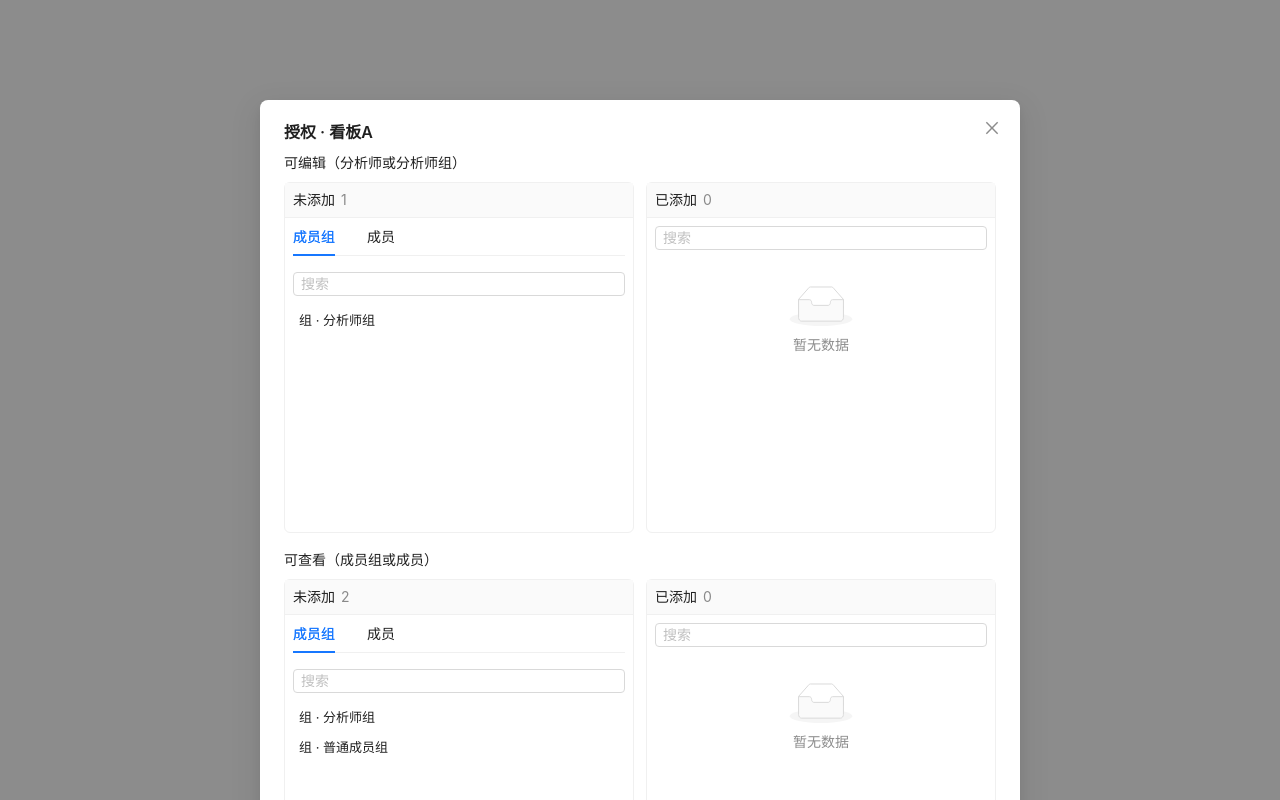
授权弹层双栏选择器（rbac-v6 增补） › 编辑栏只列分析师；查看栏列全部成员组与成员；两栏按标签页切换类别
The image size is (1280, 800).
Expected: the 1st text "组 · 分析师组" is shown, [299,310,375,330]
编辑栏 · 成员标签页：只有分析师个人
Click the 1st tab "成员" at (381, 237), box [367,226,395,248]
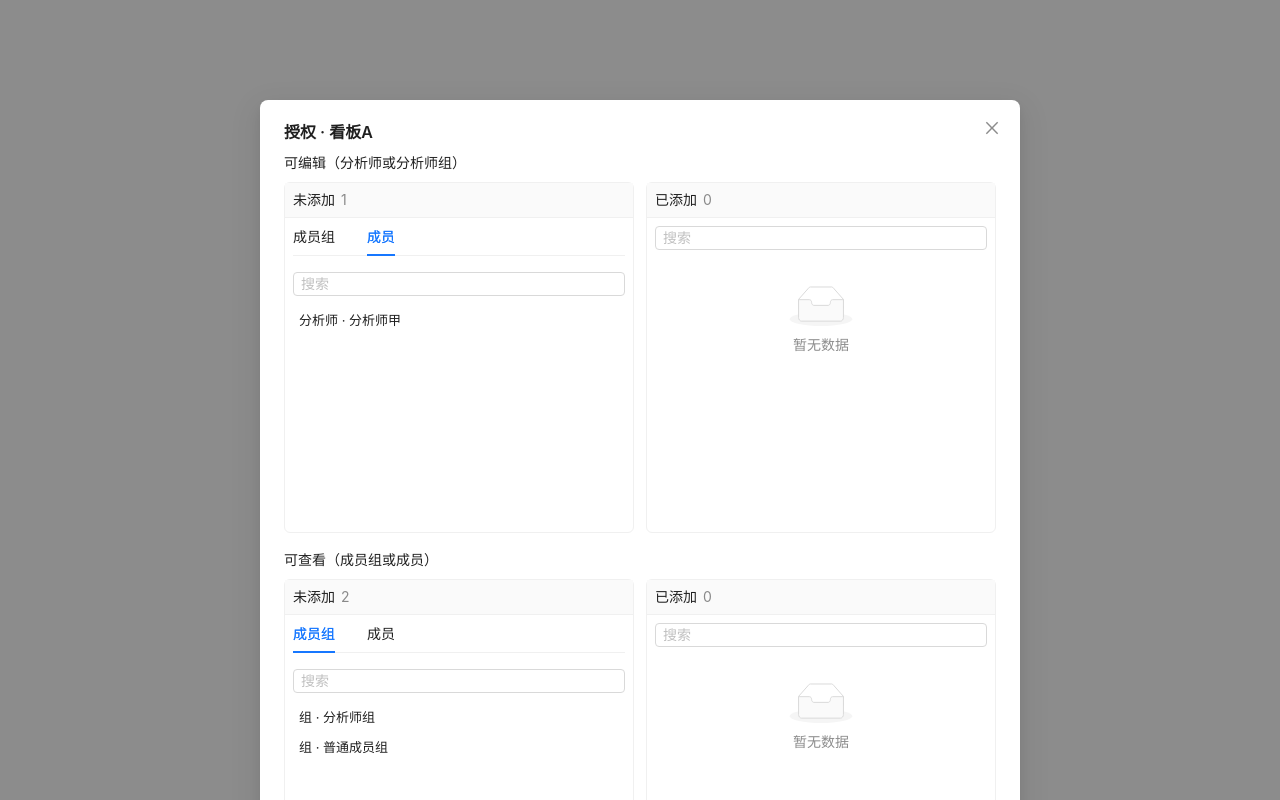
Expected: the text "成员 · 成员乙" is not shown
Expected: the text "分析师 · 分析师甲" is shown, [299,310,401,330]
Click the 2nd tab "成员" at (381, 634), box [367,623,395,645]
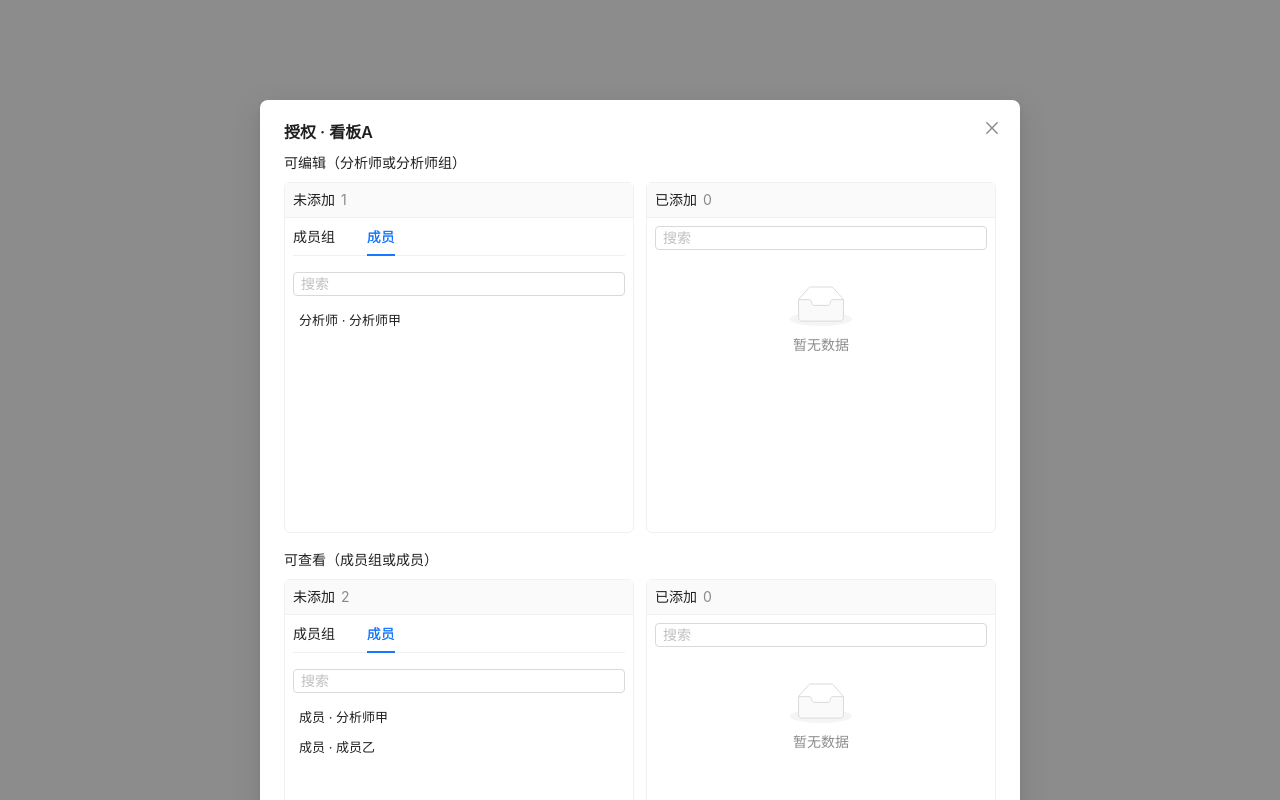
Expected: the text "成员 · 成员乙" is shown, [299,737,375,757]
Expected: the text "成员 · 分析师甲" is shown, [299,707,388,727]
